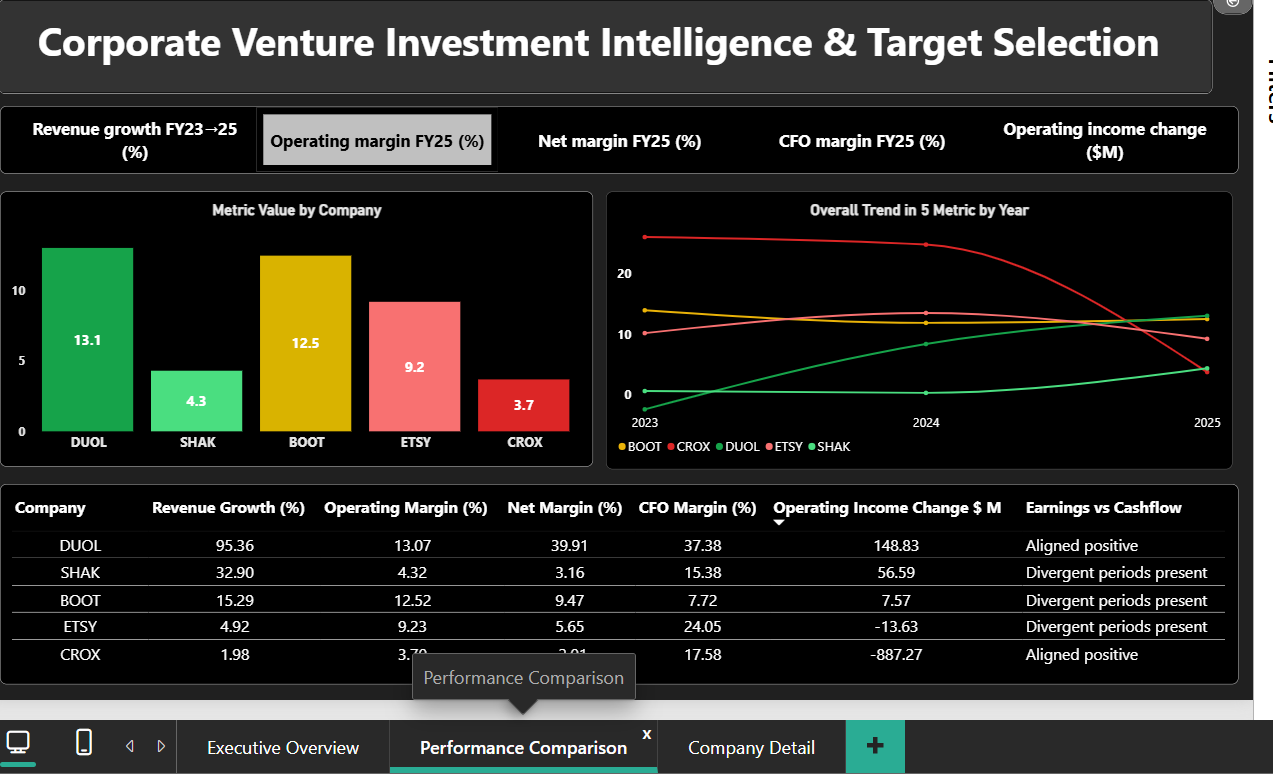

This screenshot's page, from the dashboard's own definition file:
{"tool":"powerbi","page":{"name":"Performance Comparison","canvas":[1920,1080],"ordinal":1},"visuals":[{"type":"shape","box":[21.6,21.6,1838.3,142.9],"z":0},{"type":"textbox","box":[62,43.1,1735.8,94.3],"z":1000},{"type":"actionButton","box":[1859.8,2.7,59.3,40.4],"z":2000},{"type":"slicer","fields":{"Values":["Metric Options.Metric"]},"box":[22,180.9,1875.2,102.7],"z":3000},{"type":"clusteredColumnChart","fields":{"Category":["investment_intelligence investment_screening.company"],"Y":["Metric Options.Selected Metric Value"]},"box":[22.7,311.7,898.2,416.5],"z":4000},{"type":"tableEx","fields":{"Values":["investment_intelligence investment_screening.company","Sum(investment_intelligence investment_screening.revenue_growth_2023_to_2025_pct)","Sum(investment_intelligence investment_screening.operating_margin_pct)","Sum(investment_intelligence investment_screening.net_margin_pct)","Sum(investment_intelligence investment_screening.cfo_margin_pct)","Sum(investment_intelligence investment_screening.operating_income_change_usd_mn)","investment_intelligence investment_screening.earnings_cashflow_flag"]},"box":[22.7,753.7,1875.6,303.2],"z":5000},{"type":"lineChart","fields":{"Category":["investment_intelligence investment_screening.company"],"Y":["Sum(investment_intelligence investment_screening.operating_income_change_usd_mn)"]},"box":[941.3,310.5,948.6,420.5],"z":6000}]}

Visuals, with their boxes on the page's 1920x1080 design canvas (x1, y1, x2, y2). These are canvas units, not pixel positions in the 1273x774 screenshot, which may show the page scaled, cropped or inside an application window:
shape: 22,22,1860,164
textbox: 62,43,1798,137
actionButton: 1860,3,1919,43
slicer - Metric Options.Metric: 22,181,1897,284
clusteredColumnChart - investment_intelligence investment_screening.company x Metric Options.Selected Metric Value: 23,312,921,728
tableEx - investment_intelligence investment_screening.company x Sum(investment_intelligence investment_screening.revenue_growth_2023_to_2025_pct): 23,754,1898,1057
lineChart - investment_intelligence investment_screening.company x Sum(investment_intelligence investment_screening.operating_income_change_usd_mn): 941,310,1890,731
